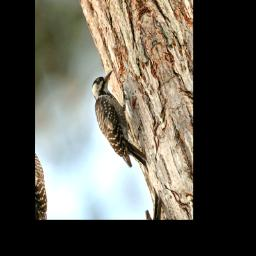Woodpecker: (83, 60, 156, 193)
